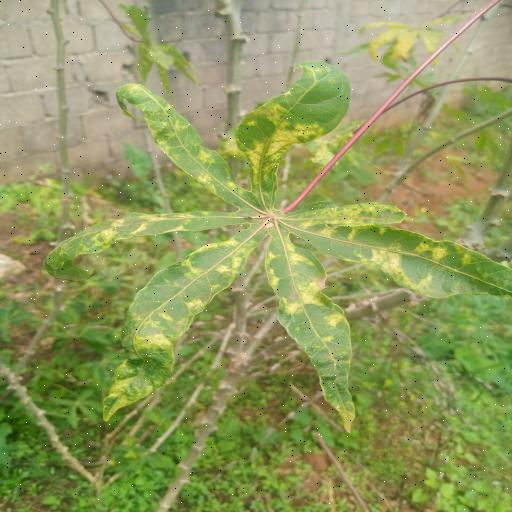Cassava_Mosaic: (45, 64, 512, 426)
